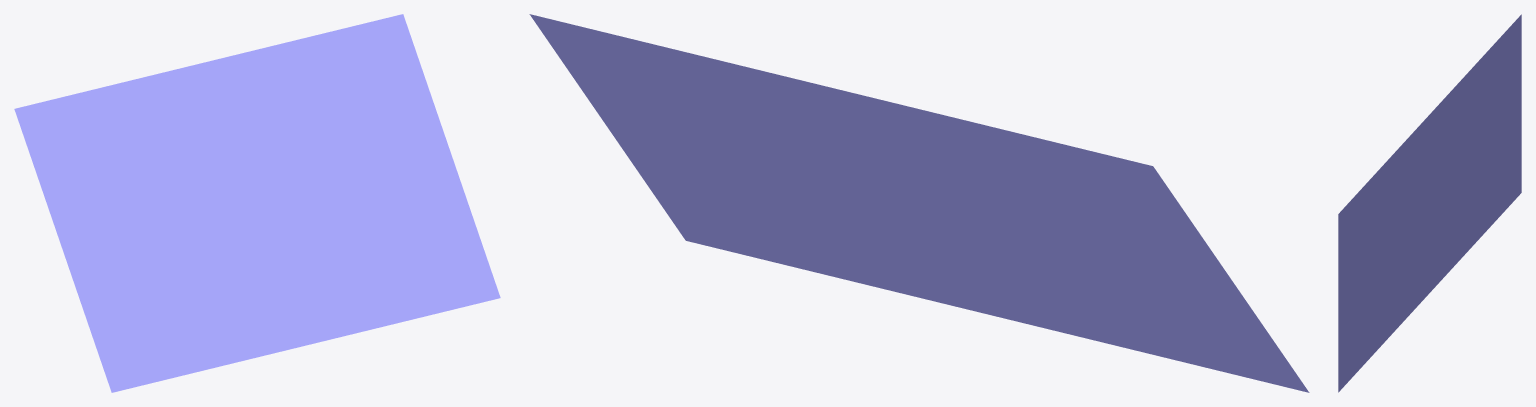
File: Cover_slide.FBX
3 views of the same model, side by side, from view 1: azimuth 30°, elevation 25°; view 2: azimuth 150°, elevation 25°; view 3: azimuth 270°, elevation 25° (orthographic). The views are drawn at different scales.
Parts seen in each view (by area): view 1: Cover_slide; view 2: Cover_slide; view 3: Cover_slide.
Part boxes in pixels (box(x1,y1,x2,y2)): Cover_slide: box(14, 14, 500, 392); Cover_slide: box(529, 14, 1309, 392); Cover_slide: box(1338, 14, 1521, 392).
Bounding box in the file's own units: 307 × 133 × 161.
